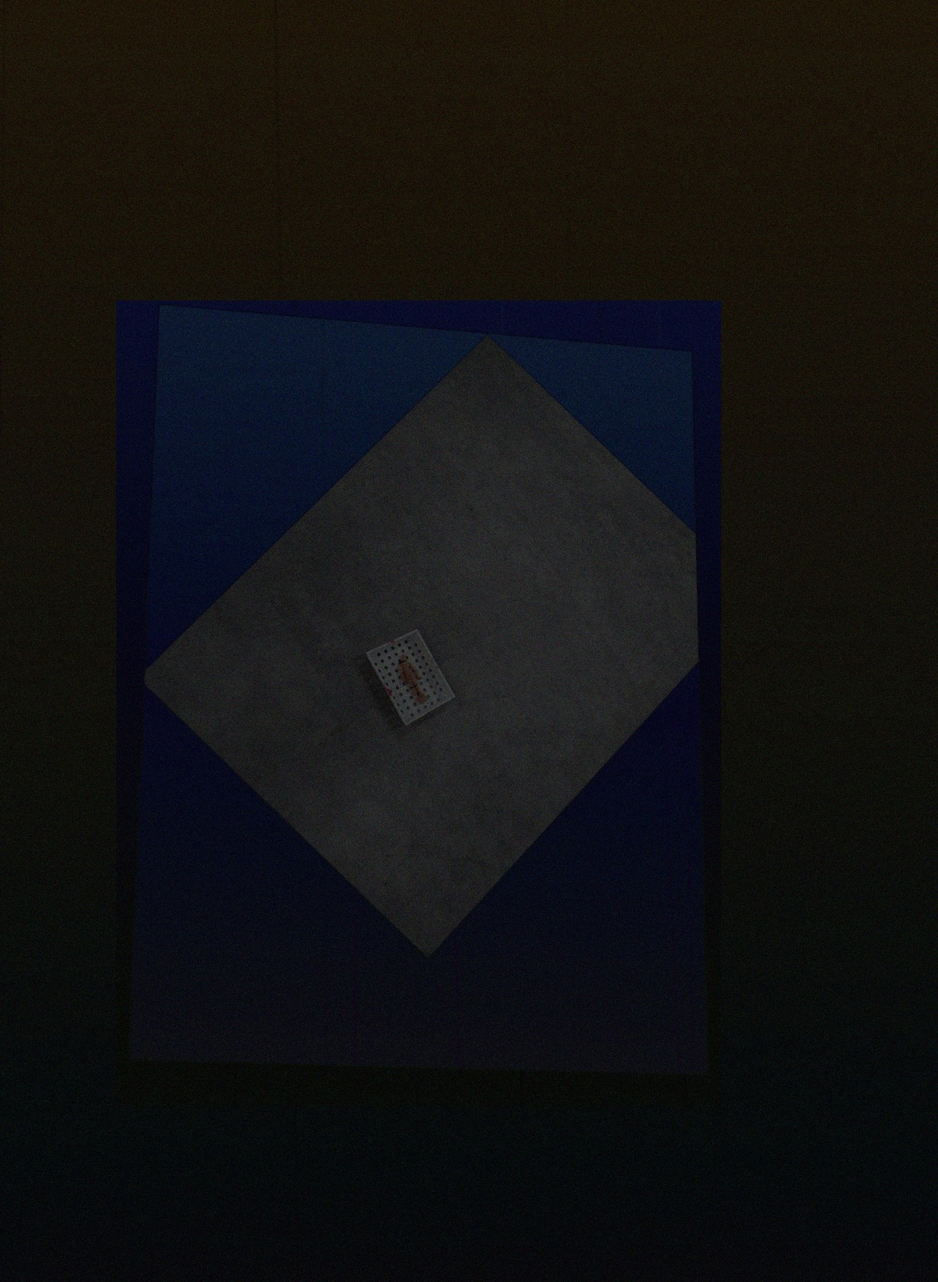basket: (361, 625, 460, 733)
mannequin: (393, 652, 432, 705)
